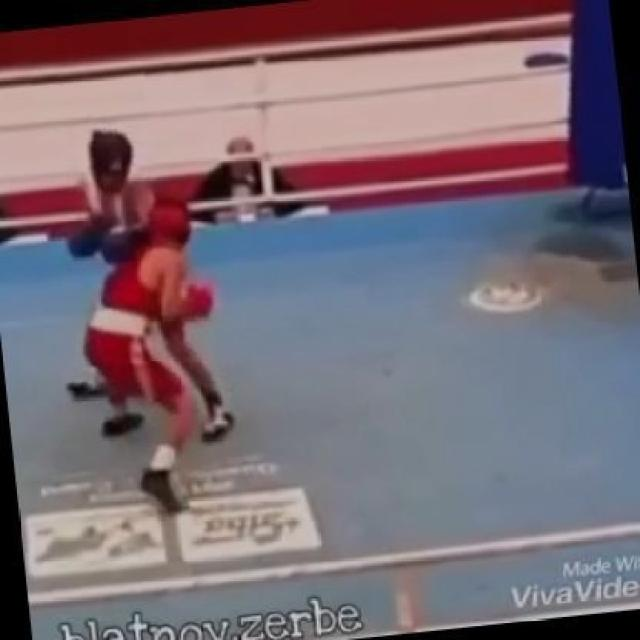fight: (25, 103, 269, 495)
